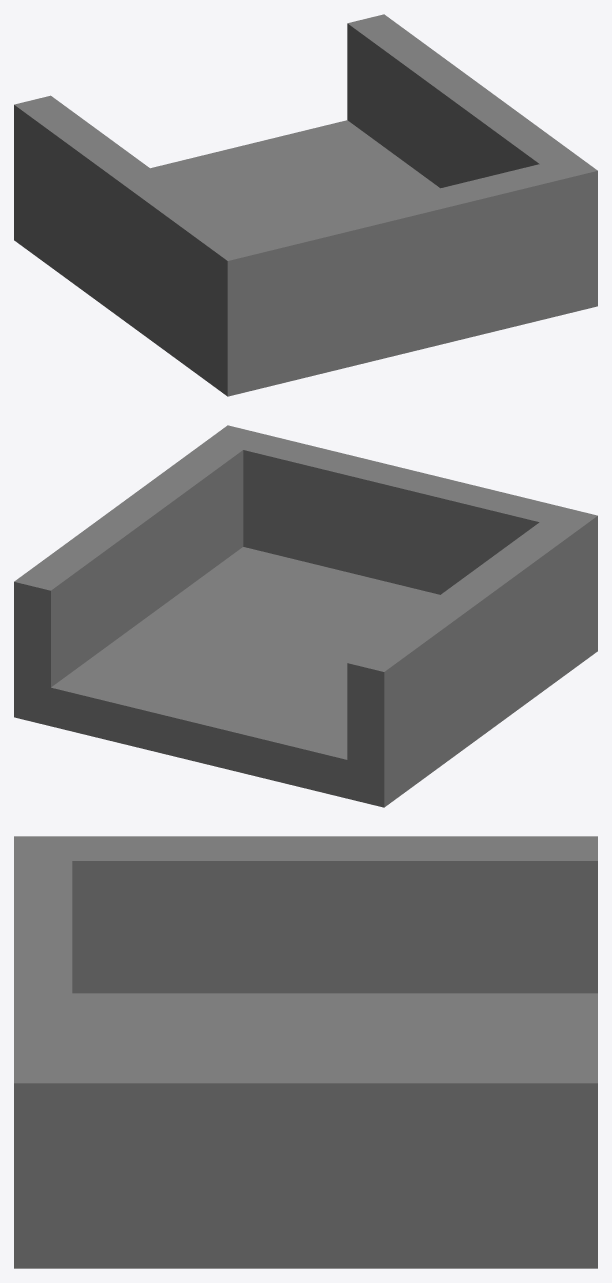
Rendered from GreyRoof_3Edges_Small.glb.
3 renders of one model, top to bottom at view 1: azimuth 30°, elevation 25°; view 2: azimuth 150°, elevation 25°; view 3: azimuth 270°, elevation 25°, orthographic. The views are drawn at different scales.
Parts seen in each view (by area): view 1: roof_flat_3Edges_small_grey; view 2: roof_flat_3Edges_small_grey; view 3: roof_flat_3Edges_small_grey.
Boxes of the visible parts, x1,y1,x2,y2 form: roof_flat_3Edges_small_grey: (14,14,597,396); roof_flat_3Edges_small_grey: (14,425,597,807); roof_flat_3Edges_small_grey: (14,836,597,1268).
Size of what is drawn, in the model's own units: 2 by 0.7 by 2.
1 material, 1 textured.
